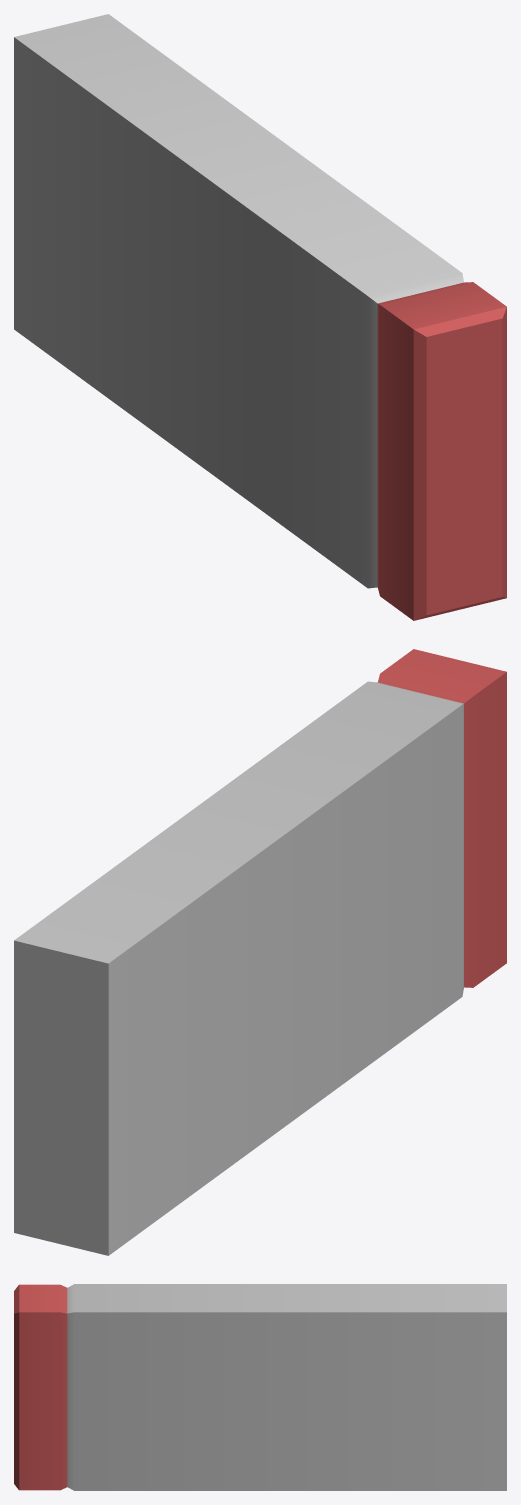
Rendered from Press.fbx.
3 renders of one model, top to bottom at view 1: azimuth 30°, elevation 25°; view 2: azimuth 150°, elevation 25°; view 3: azimuth 270°, elevation 25°, orthographic. The views are drawn at different scales.
Visible parts, largest first — view 1: Press; view 2: Press; view 3: Press.
Part boxes in pixels (left/top/right/bottom): Press: left=14, top=14, right=506, bottom=620; Press: left=14, top=649, right=506, bottom=1255; Press: left=14, top=1284, right=506, bottom=1490.
Size of the model in its own units: 72.73 by 215 by 537.
